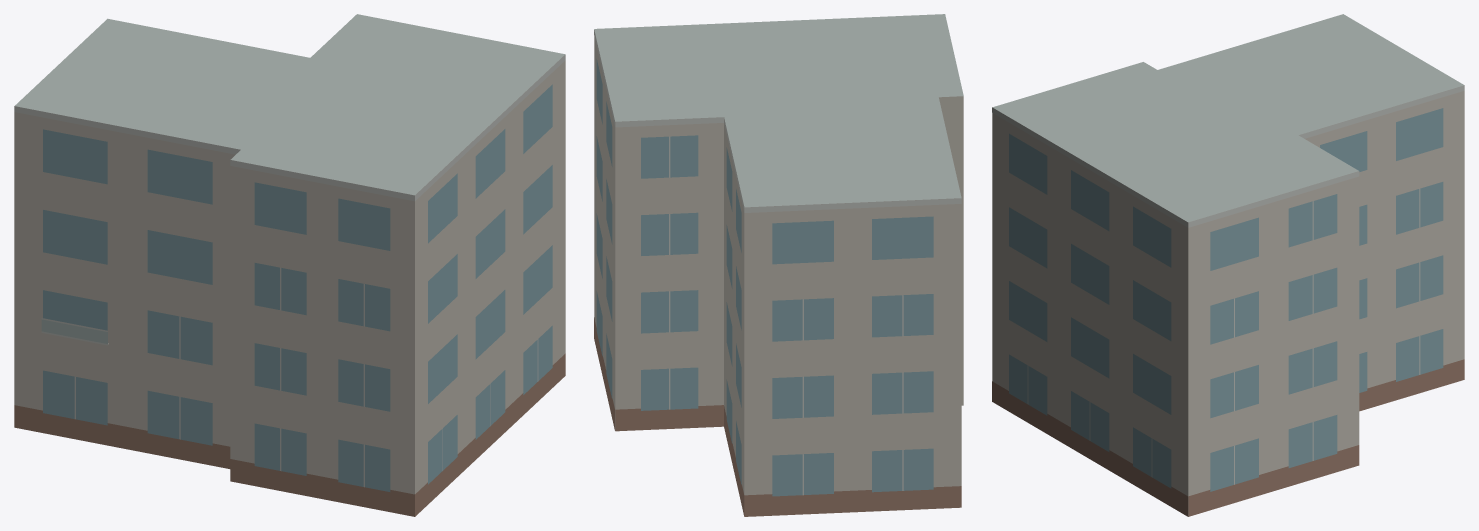
The model's file is survey-upis-32804264.glb.
3 views of the same model, side by side, from view 1: azimuth 30°, elevation 25°; view 2: azimuth 150°, elevation 25°; view 3: azimuth 270°, elevation 25° (orthographic). The views are drawn at different scales.
Visible parts, largest first — view 1: survey-upis-32804264.tmp; view 2: survey-upis-32804264.tmp; view 3: survey-upis-32804264.tmp.
Part boxes in pixels (x1=…): survey-upis-32804264.tmp: x1=14, y1=14, x2=565, y2=516; survey-upis-32804264.tmp: x1=594, y1=14, x2=963, y2=516; survey-upis-32804264.tmp: x1=992, y1=14, x2=1464, y2=516.
Bounding box in the file's own units: 20.05 × 13.2 × 19.21.
